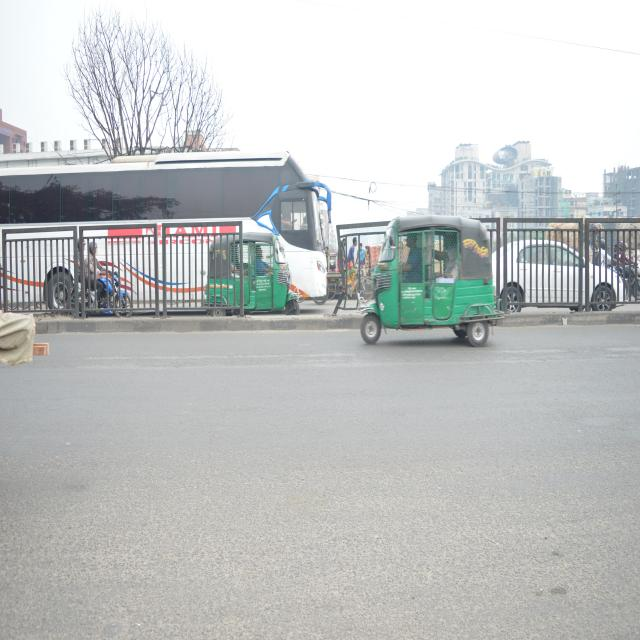bus: (0, 153, 330, 310)
car: (479, 237, 630, 312)
